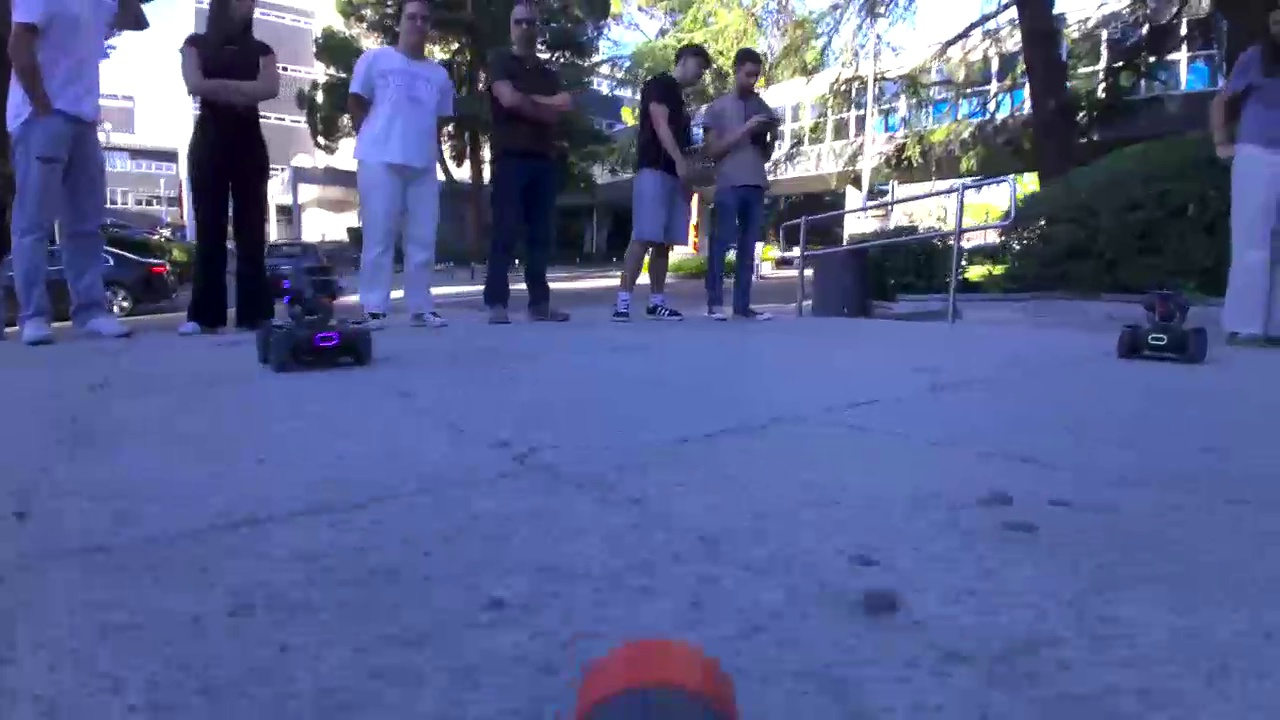robot: (254, 264, 374, 374), (1117, 287, 1210, 365)
